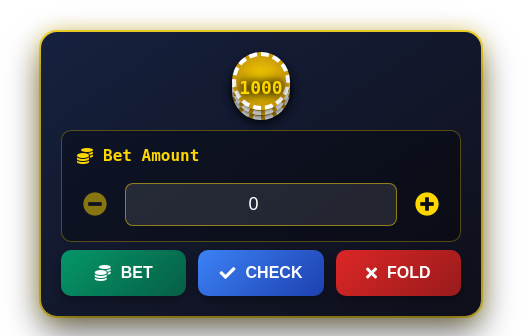
Test: PokerHUD.vue › resets bet amount after placing a bet
Replace the text in the number field with class "bet-input" with "100" at (261, 204), box [125,183,397,226]
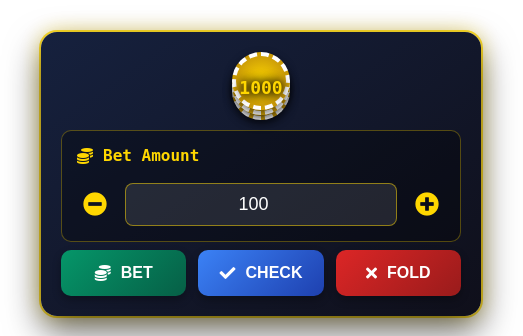
Click the button with class "bet-button" at (124, 273), box [61,250,186,296]
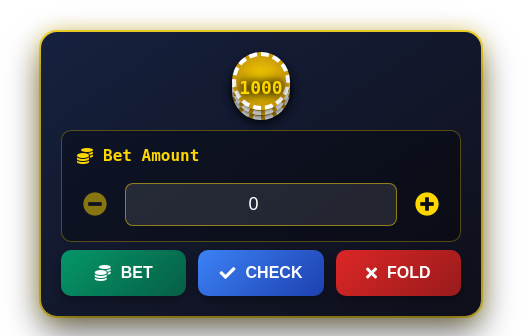
Check: the number field with class "bet-input" holds "0", box [125,183,397,226]
